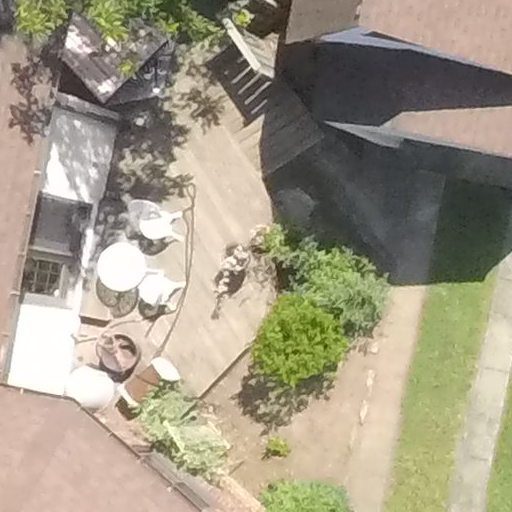chair: (124, 259, 198, 316), (127, 190, 187, 246)
table: (92, 237, 151, 300)
